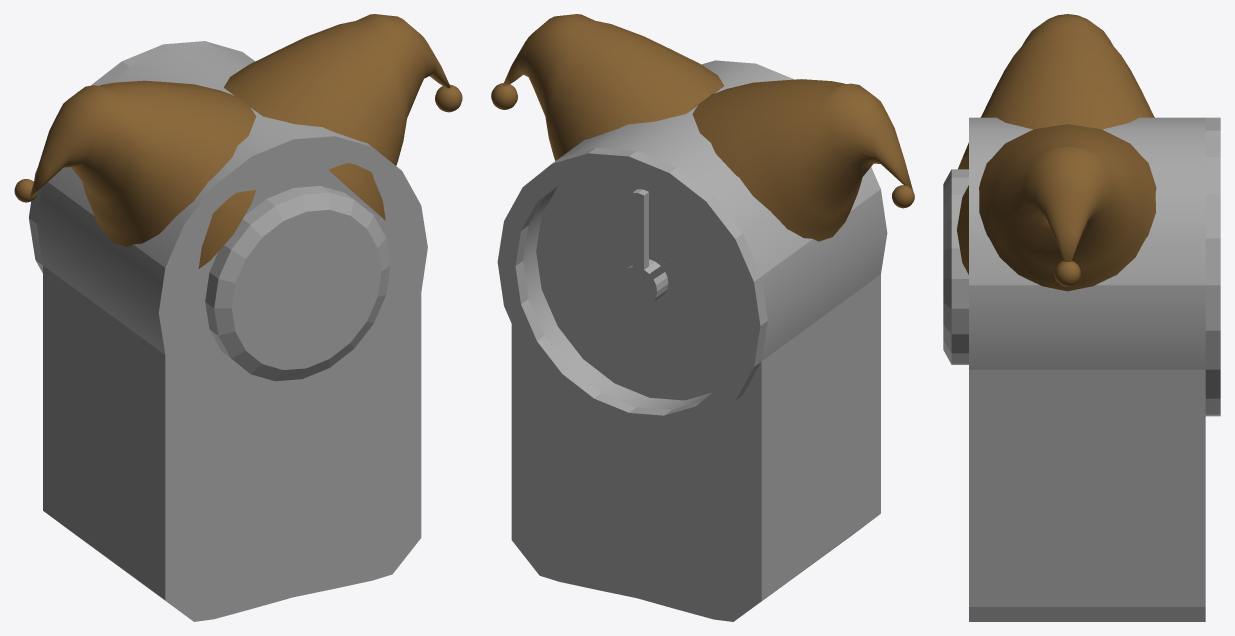
File: clock.fbx
3 views of the same model, side by side, from view 1: azimuth 30°, elevation 25°; view 2: azimuth 150°, elevation 25°; view 3: azimuth 270°, elevation 25° (orthographic). The views are drawn at different scales.
Visible parts, largest first — view 1: polySurface222; view 2: polySurface222; view 3: polySurface222.
Boxes of the visible parts, x1,y1,x2,y2 form: polySurface222: (14,14,462,621); polySurface222: (491,14,914,621); polySurface222: (943,14,1220,621).
Size of the model in its own units: 74.34 by 83 by 42.14.
